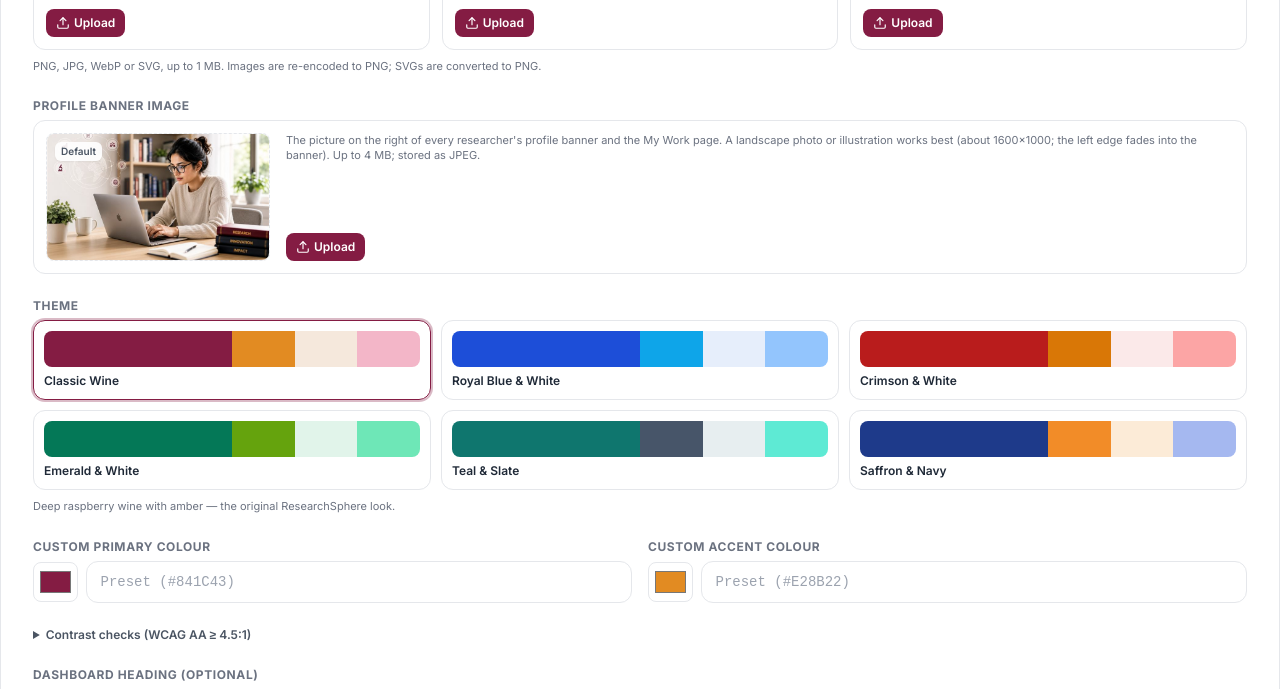
Scenario: BrandingEditor (create mode) › previews the chosen preset and warns when a custom colour is too light
This screenshot has width=1280, height=689.
(page scrolled)
Step 1. Click the radio button labelled "Royal Blue & White" → coordinates (640, 360), box [441, 320, 839, 400]
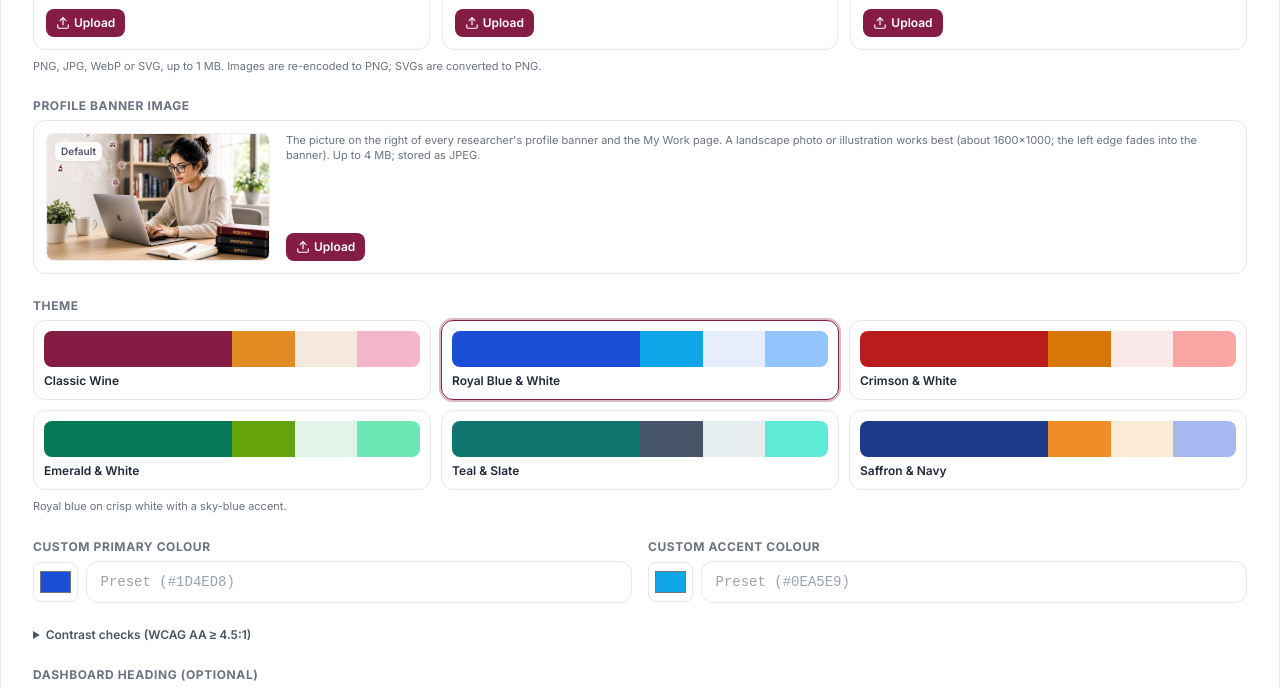
Step 2. Type "#FDE047" into the field labelled "Custom primary colour" → coordinates (359, 582), box [86, 561, 632, 603]
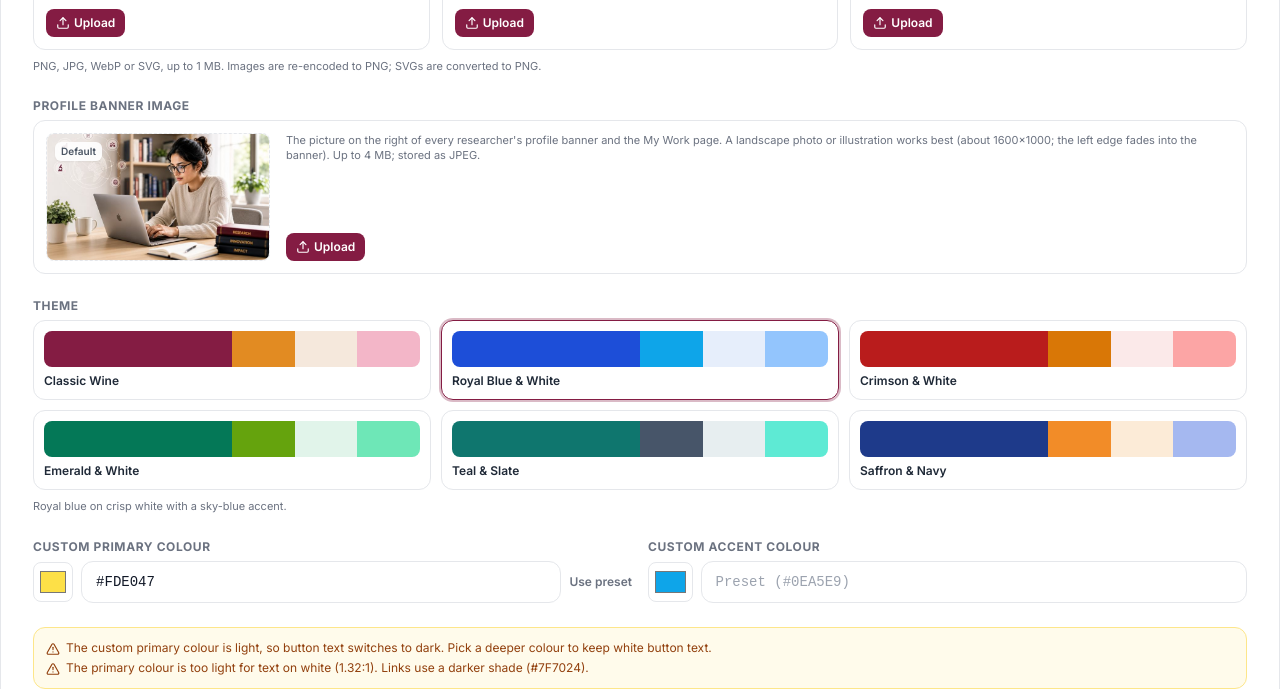
expect the message shows "too light": met, box [66, 660, 589, 675]
